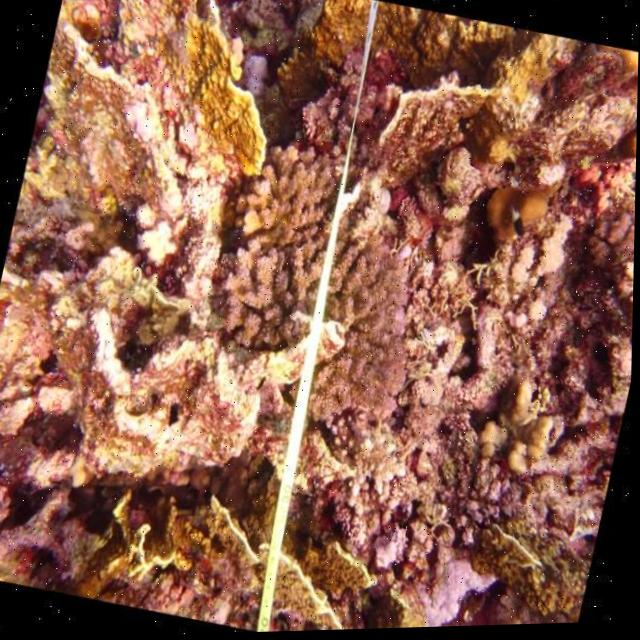Bleached Coral: (35, 8, 205, 182), (61, 308, 192, 453), (498, 192, 581, 329), (390, 534, 503, 631), (119, 177, 201, 277), (233, 42, 274, 107)
